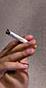smoke: (3, 27, 37, 47)
